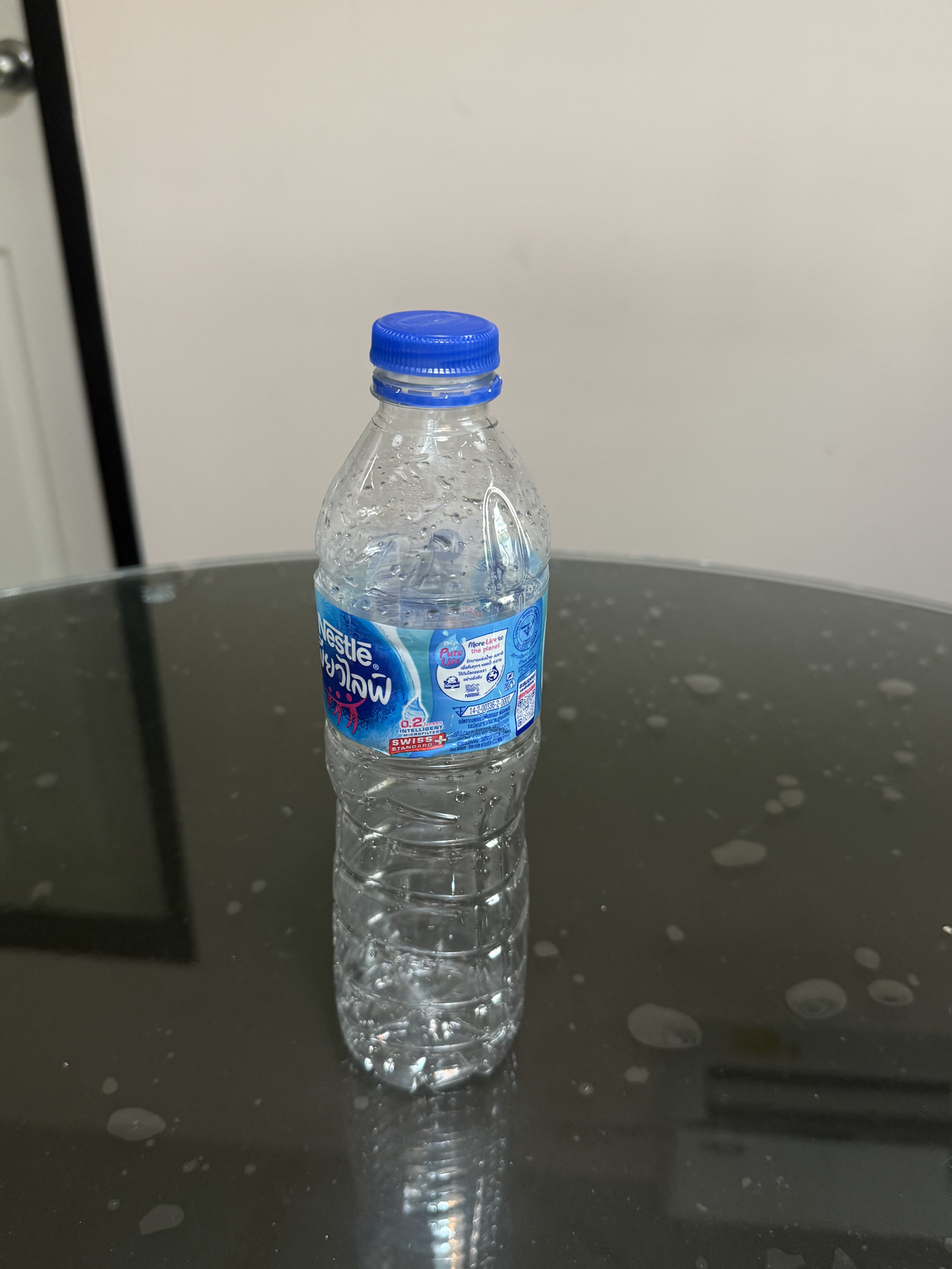half_cap: (364, 304, 505, 407)
